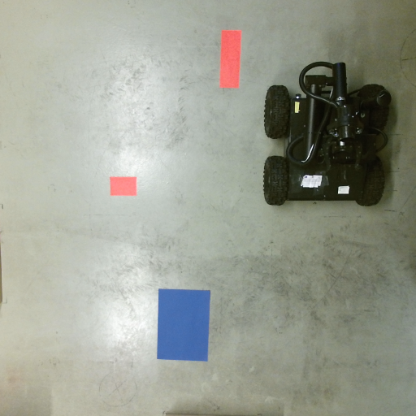Blue: (154, 288, 213, 363)
Jaguar: (259, 58, 388, 210)
Red: (218, 30, 242, 91), (107, 175, 139, 197)
